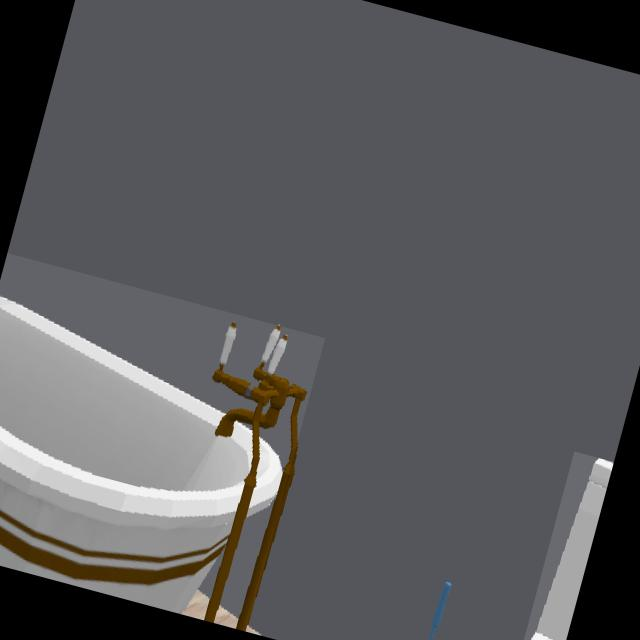bathtube: (0, 296, 307, 614)
toilet: (531, 458, 613, 640)
